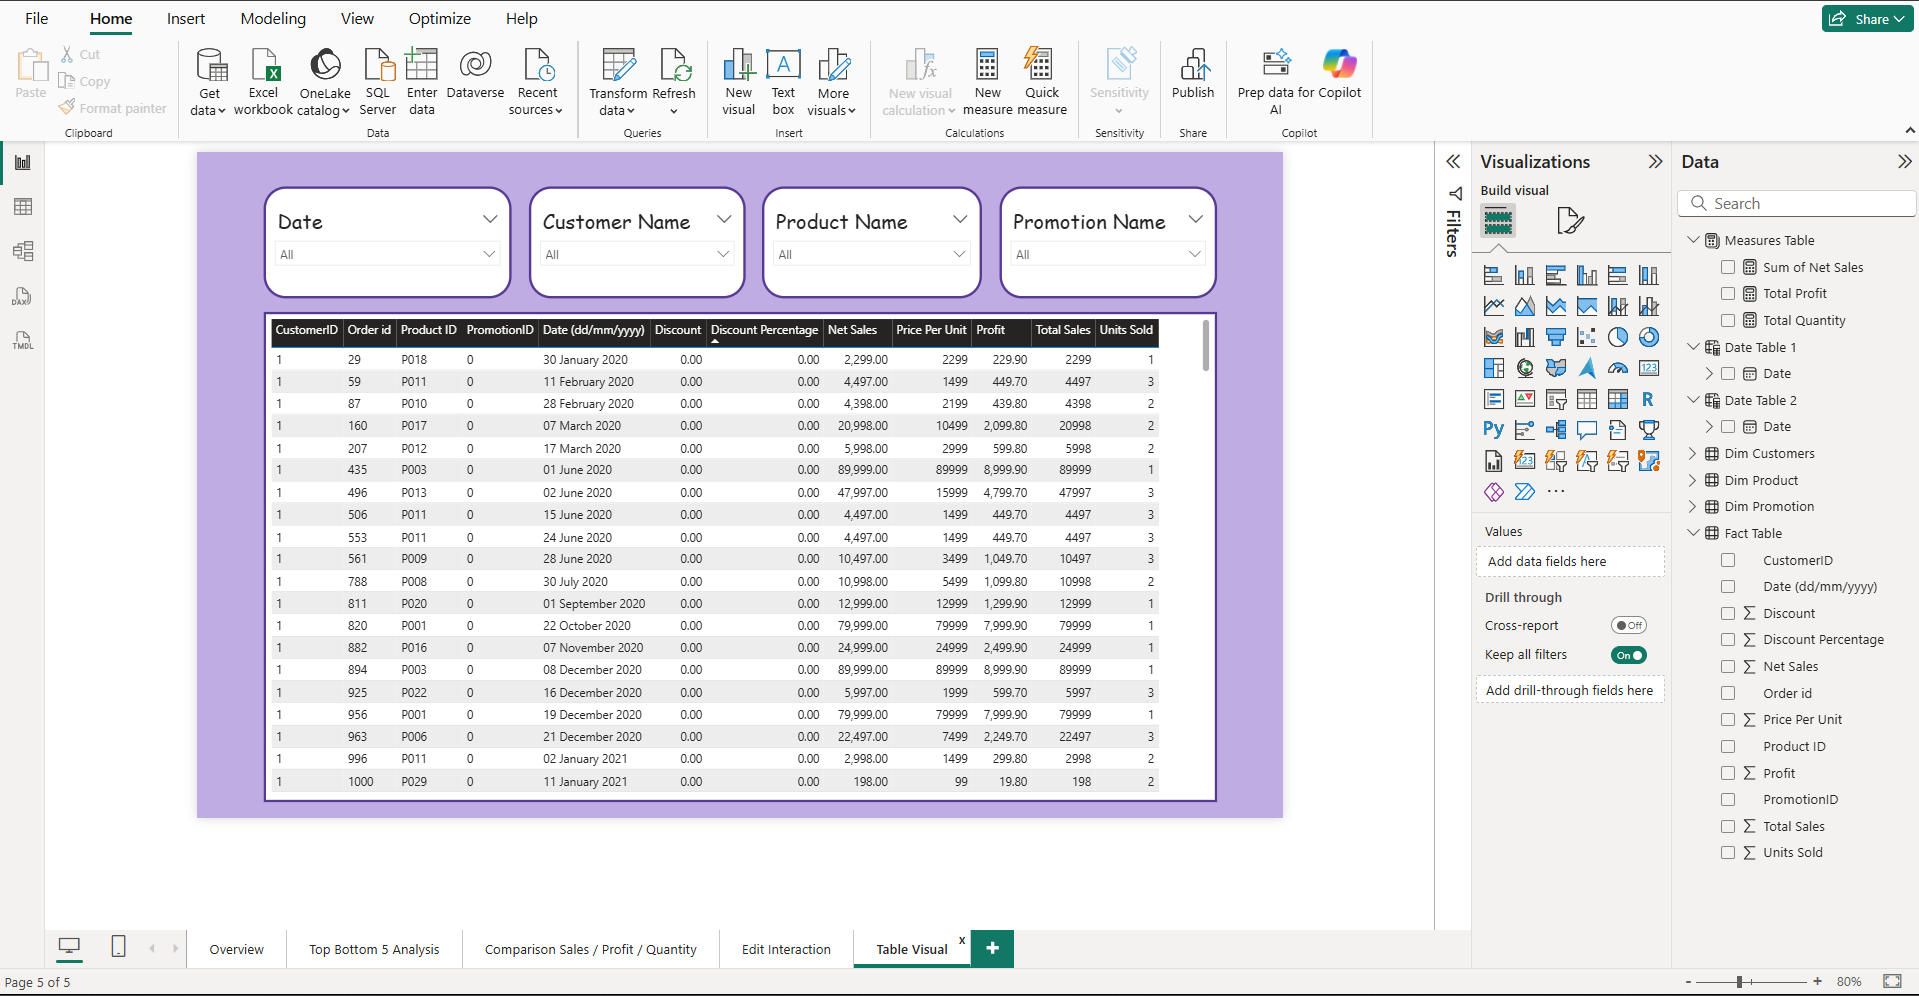

Layout of this report page (visuals, bound fields, positions):
{"tool":"powerbi","page":{"name":"Table Visual","canvas":[1280,720],"ordinal":4},"visuals":[{"type":"tableEx","fields":{"Values":["Fact Table.CustomerID","Fact Table.Order id","Fact Table.Product ID","Fact Table.PromotionID","Fact Table.Date (dd/mm/yyyy)","Fact Table.Discount","Fact Table.Discount Percentage","Fact Table.Net Sales","Fact Table.Price Per Unit","Fact Table.Profit","Fact Table.Total Sales","Fact Table.Units Sold"]},"box":[123.8,168.1,1073.3,552],"z":0},{"type":"slicer","fields":{"Values":["Date Table 1.Date"]},"box":[123.8,30.7,279.4,126.1],"z":1000},{"type":"slicer","fields":{"Values":["Dim Customers.Customer Name"]},"box":[422.1,30.7,244.2,126.1],"z":2000},{"type":"slicer","fields":{"Values":["Dim Product.Product Name"]},"box":[685.2,30.7,247.6,126.1],"z":3000},{"type":"slicer","fields":{"Values":["Dim Promotion.Promotion Name"]},"box":[951.7,30.7,245.3,126.1],"z":4000}]}

Visuals, with their boxes on the page's 1280x720 design canvas (x1, y1, x2, y2). These are canvas units, not pixel positions in the 1919x996 screenshot, which may show the page scaled, cropped or inside an application window:
tableEx - Fact Table.CustomerID x Fact Table.Order id: region(124, 168, 1197, 720)
slicer - Date Table 1.Date: region(124, 31, 403, 157)
slicer - Dim Customers.Customer Name: region(422, 31, 666, 157)
slicer - Dim Product.Product Name: region(685, 31, 933, 157)
slicer - Dim Promotion.Promotion Name: region(952, 31, 1197, 157)
